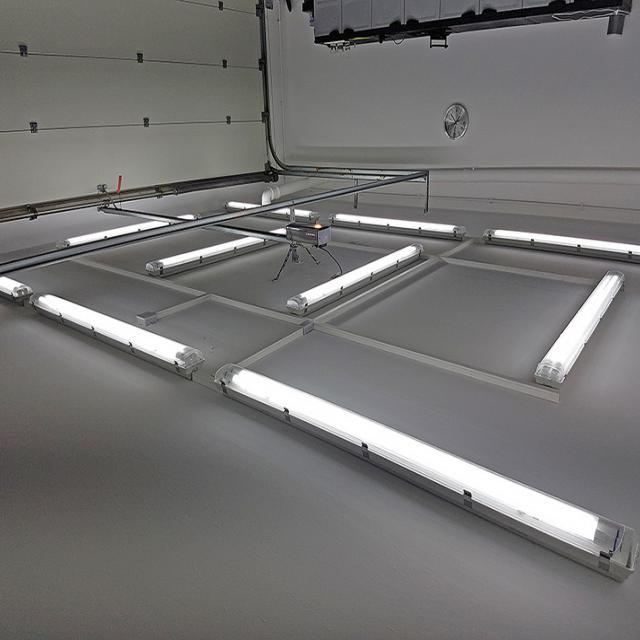light: (213, 361, 637, 583), (533, 268, 624, 387), (285, 242, 423, 314)
